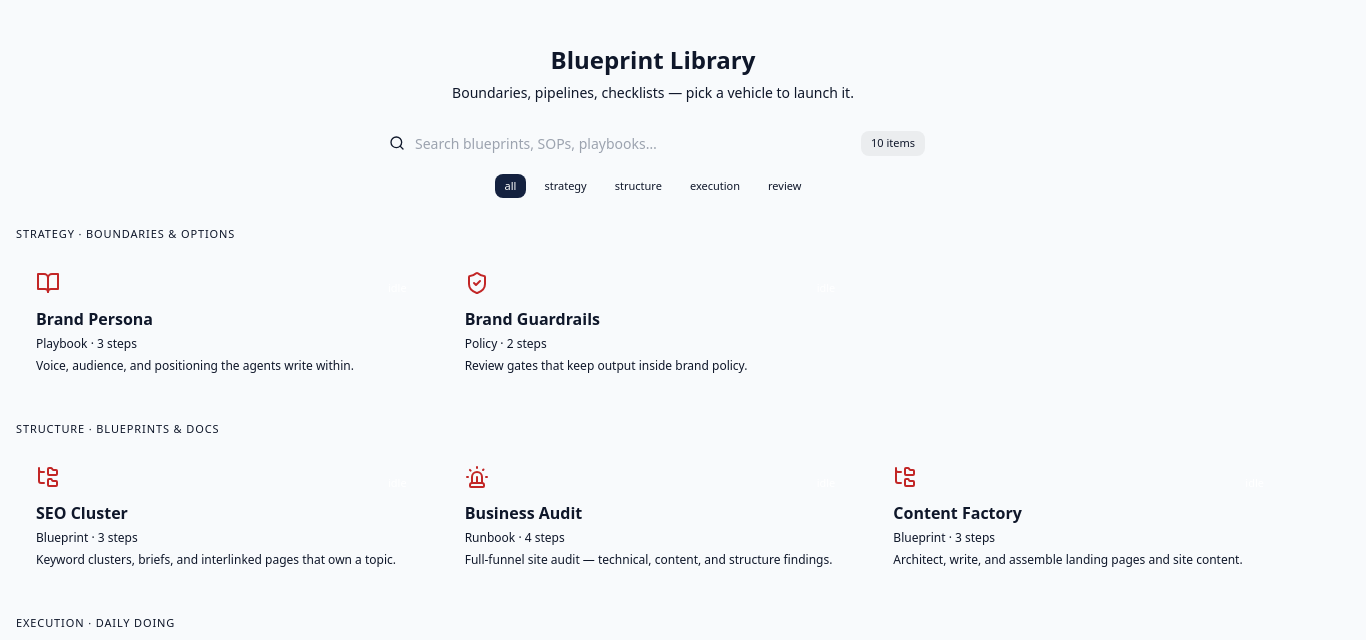
Test case: BlueprintsWindow · v13 win-library (layered catalog) › layer chips and search narrow the library; cards open the detail pane
This screenshot has width=1366, height=640.
Click the button "strategy": (566, 186) [534,174,597,198]
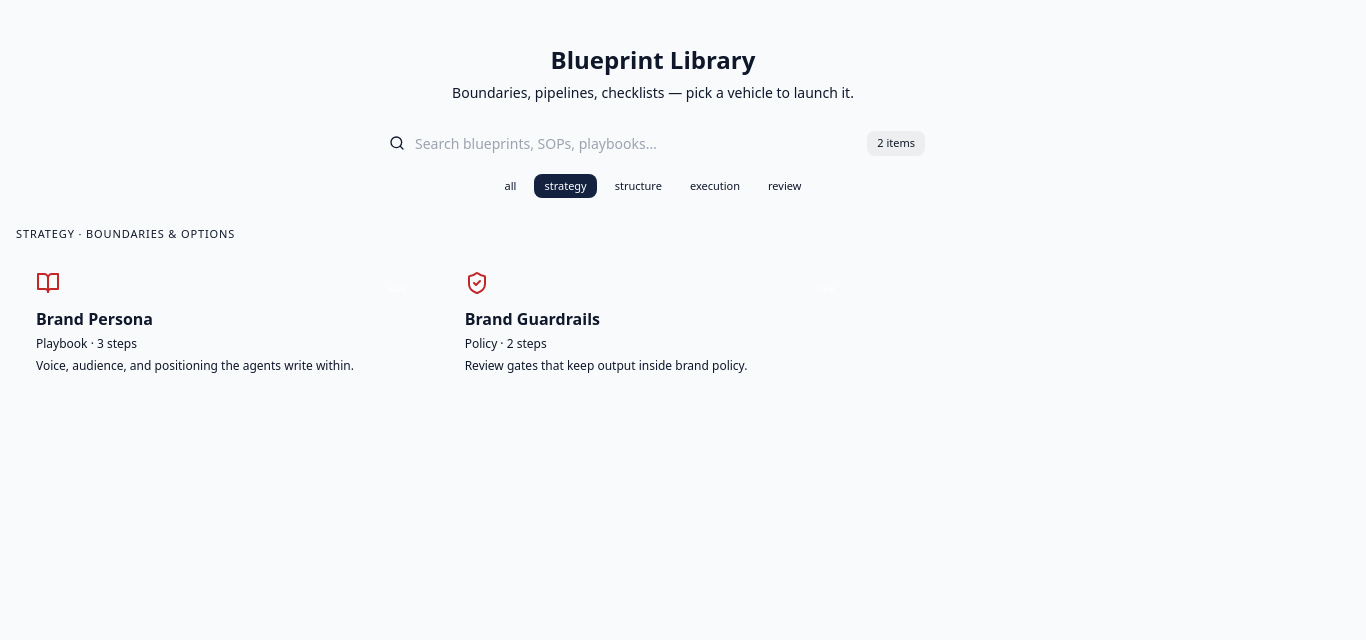
Check: the text "Brand Persona" is shown, box [36,308,153,330]
Check: the button "SEO Cluster" is gone
Click the button "all": (511, 186) [495,174,526,198]
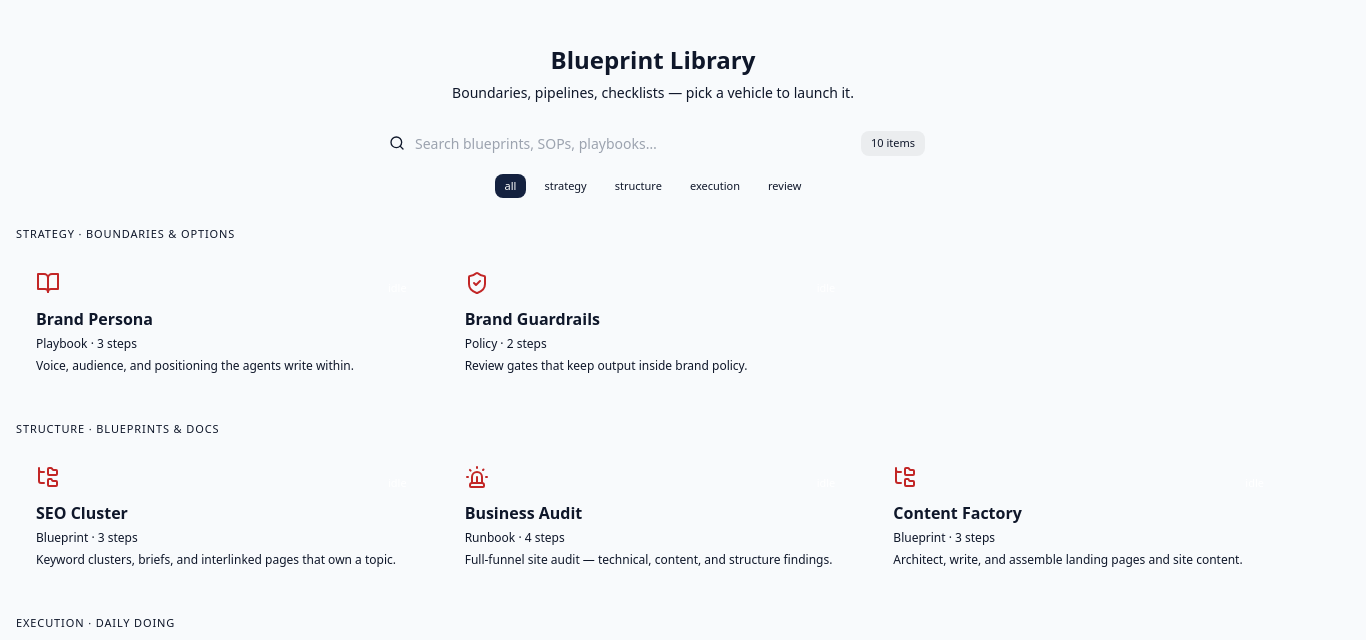
In the field named "Search the library": (633, 143) [415,133,851,154], type "email"
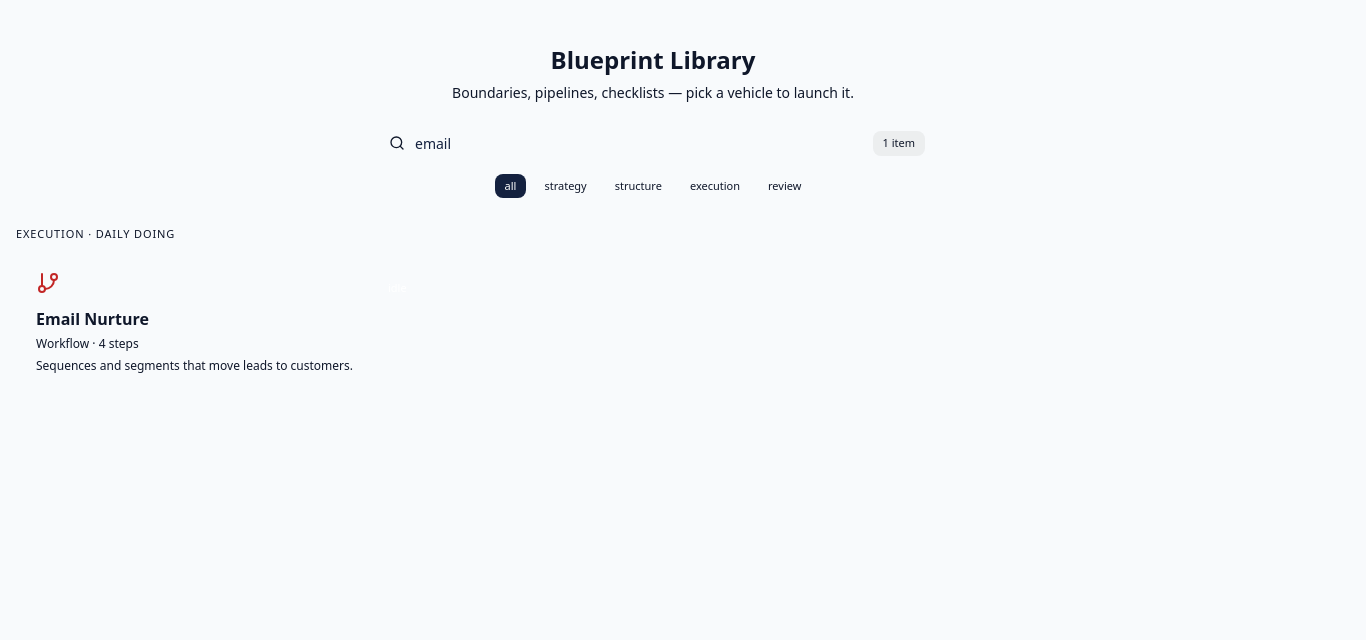
Check: the text "Email Nurture" is shown, box [36,308,149,330]
Check: the button "SEO Cluster" is gone
Clear the field named "Search the library": (639, 143) [415,133,862,154]
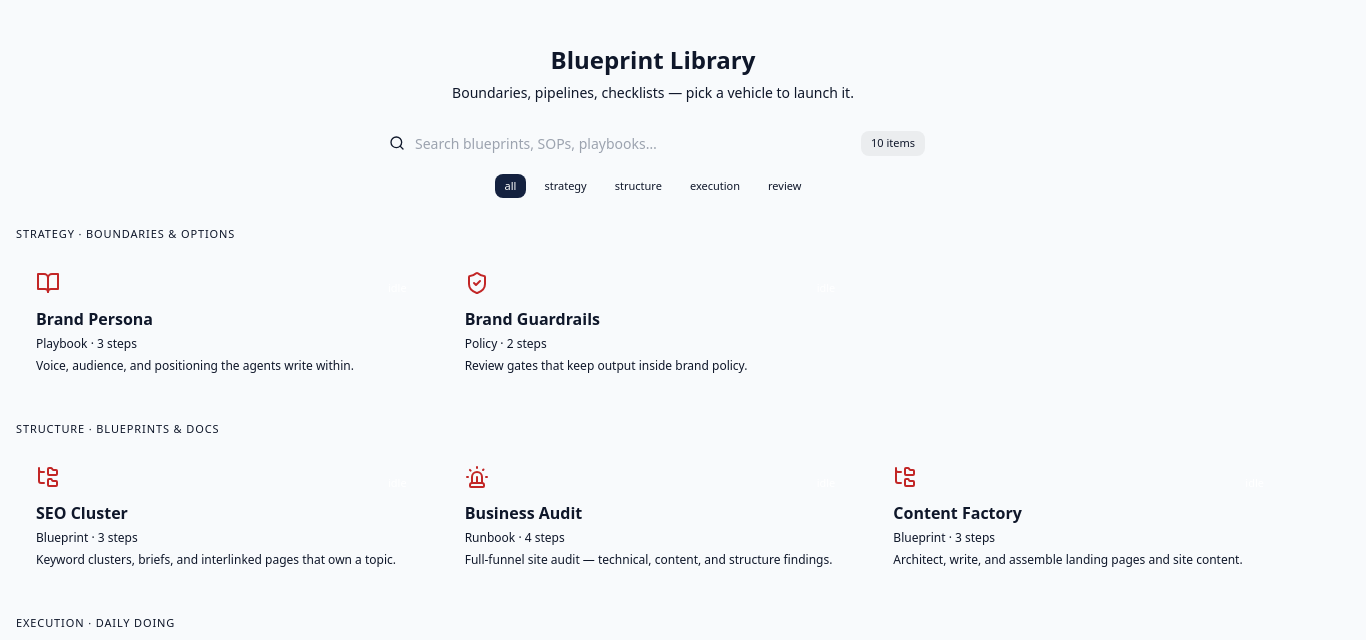
Click the button "SEO Cluster": (82, 513) [16,445,433,589]
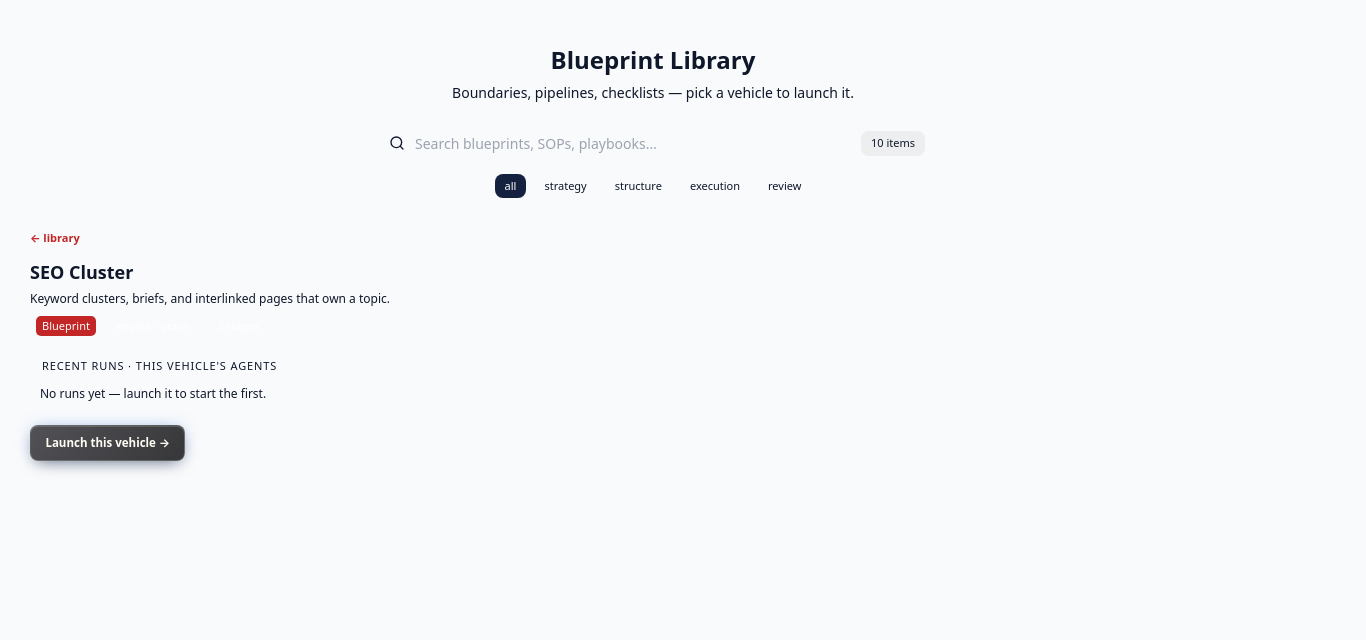
Check: the button "← library" is shown
Check: the text "No runs yet — launch it to start the first." is shown, box [40,384,266,402]
Check: the button "Launch this vehicle →" is shown, box [30,424,185,460]
Click the button "← library": (55, 240) [30,230,80,250]
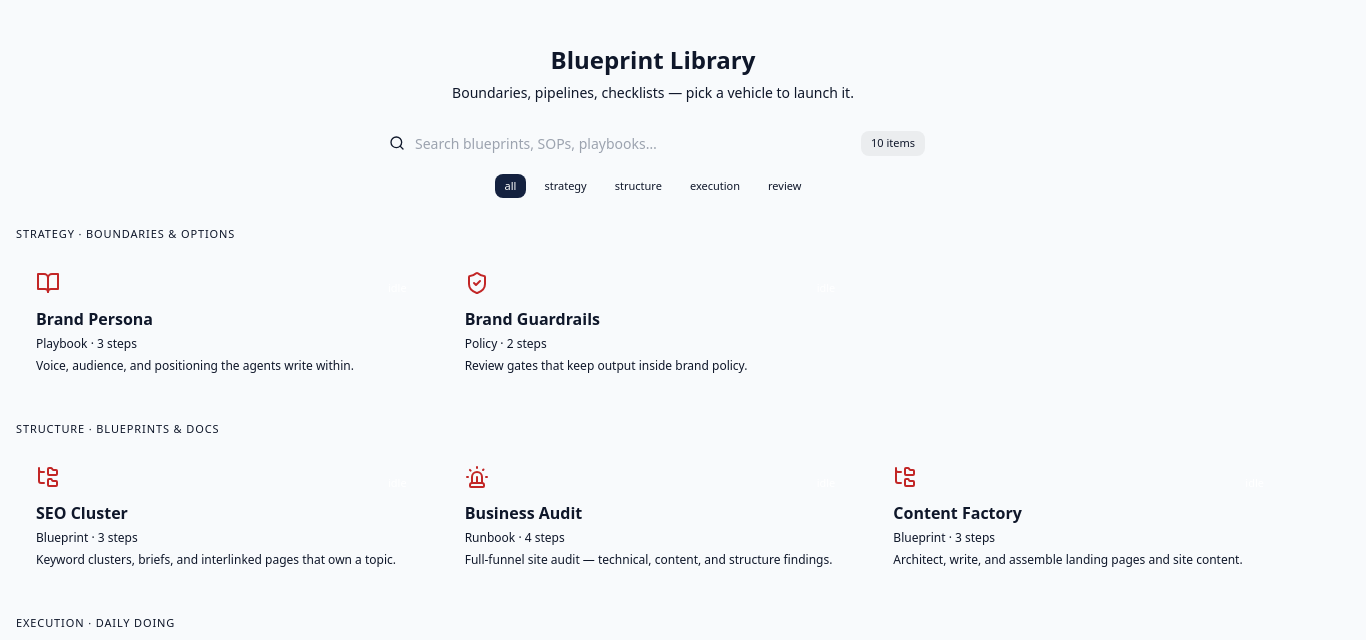
Check: the text "STRATEGY · BOUNDARIES & OPTIONS" is shown, box [16,226,235,241]
